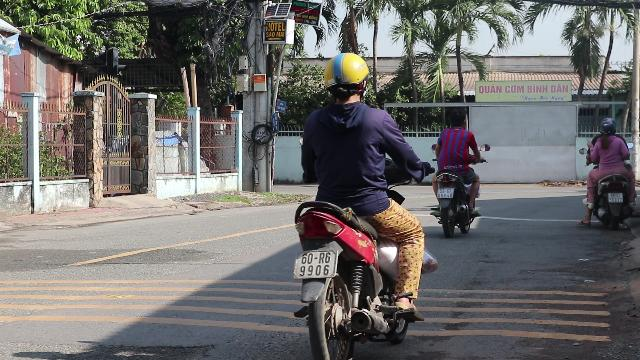helmet: (322, 50, 370, 103), (599, 117, 617, 135)
licenseplate: (293, 252, 335, 276), (437, 188, 453, 198), (608, 194, 622, 202)
motorcyclist: (284, 51, 438, 357), (428, 109, 484, 236), (581, 117, 639, 229)
nohelmet: (446, 109, 468, 129)
